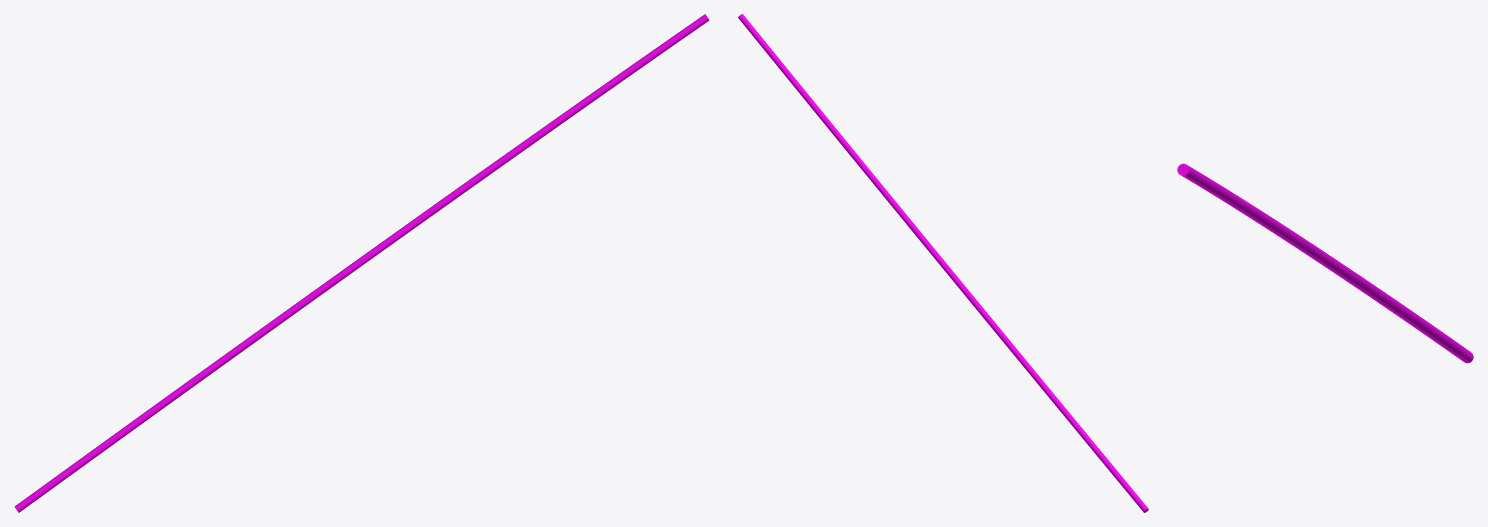
Rendered from Event_421115418_electron_0.fbx.
3 views of the same model, side by side, from view 1: azimuth 30°, elevation 25°; view 2: azimuth 150°, elevation 25°; view 3: azimuth 270°, elevation 25° (orthographic). The views are drawn at different scales.
Visible parts, largest first — view 1: Model; view 2: Model; view 3: Model.
Boxes of the visible parts, bbox=[...] form: Model: bbox=[14, 14, 709, 512]; Model: bbox=[738, 14, 1148, 512]; Model: bbox=[1177, 163, 1473, 363].
Size of the model in its own units: 3.61 by 2.38 by 0.9636.
